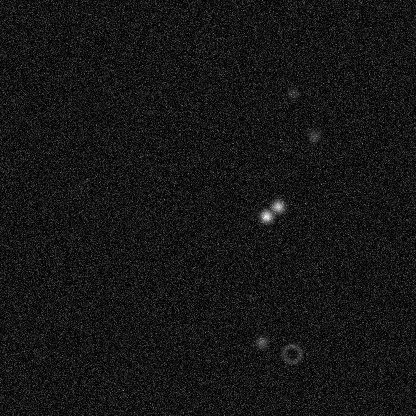Ring: (279, 341, 303, 365)
Spot: (258, 208, 274, 224), (284, 85, 300, 101), (253, 334, 269, 350), (306, 128, 322, 144), (269, 198, 285, 214)
